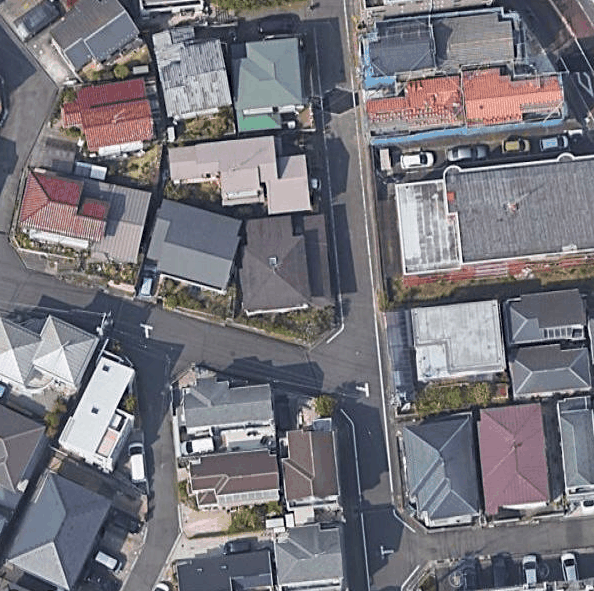flatroof: (387, 153, 593, 278)
